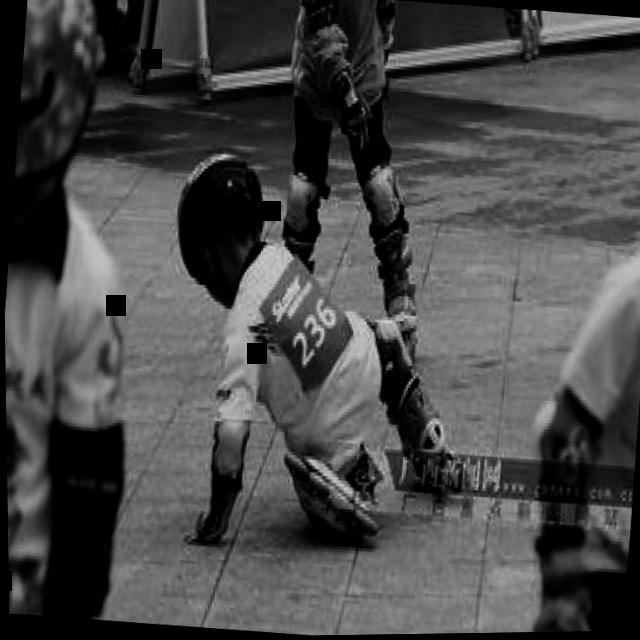Fall-Detected: (135, 134, 497, 563)
